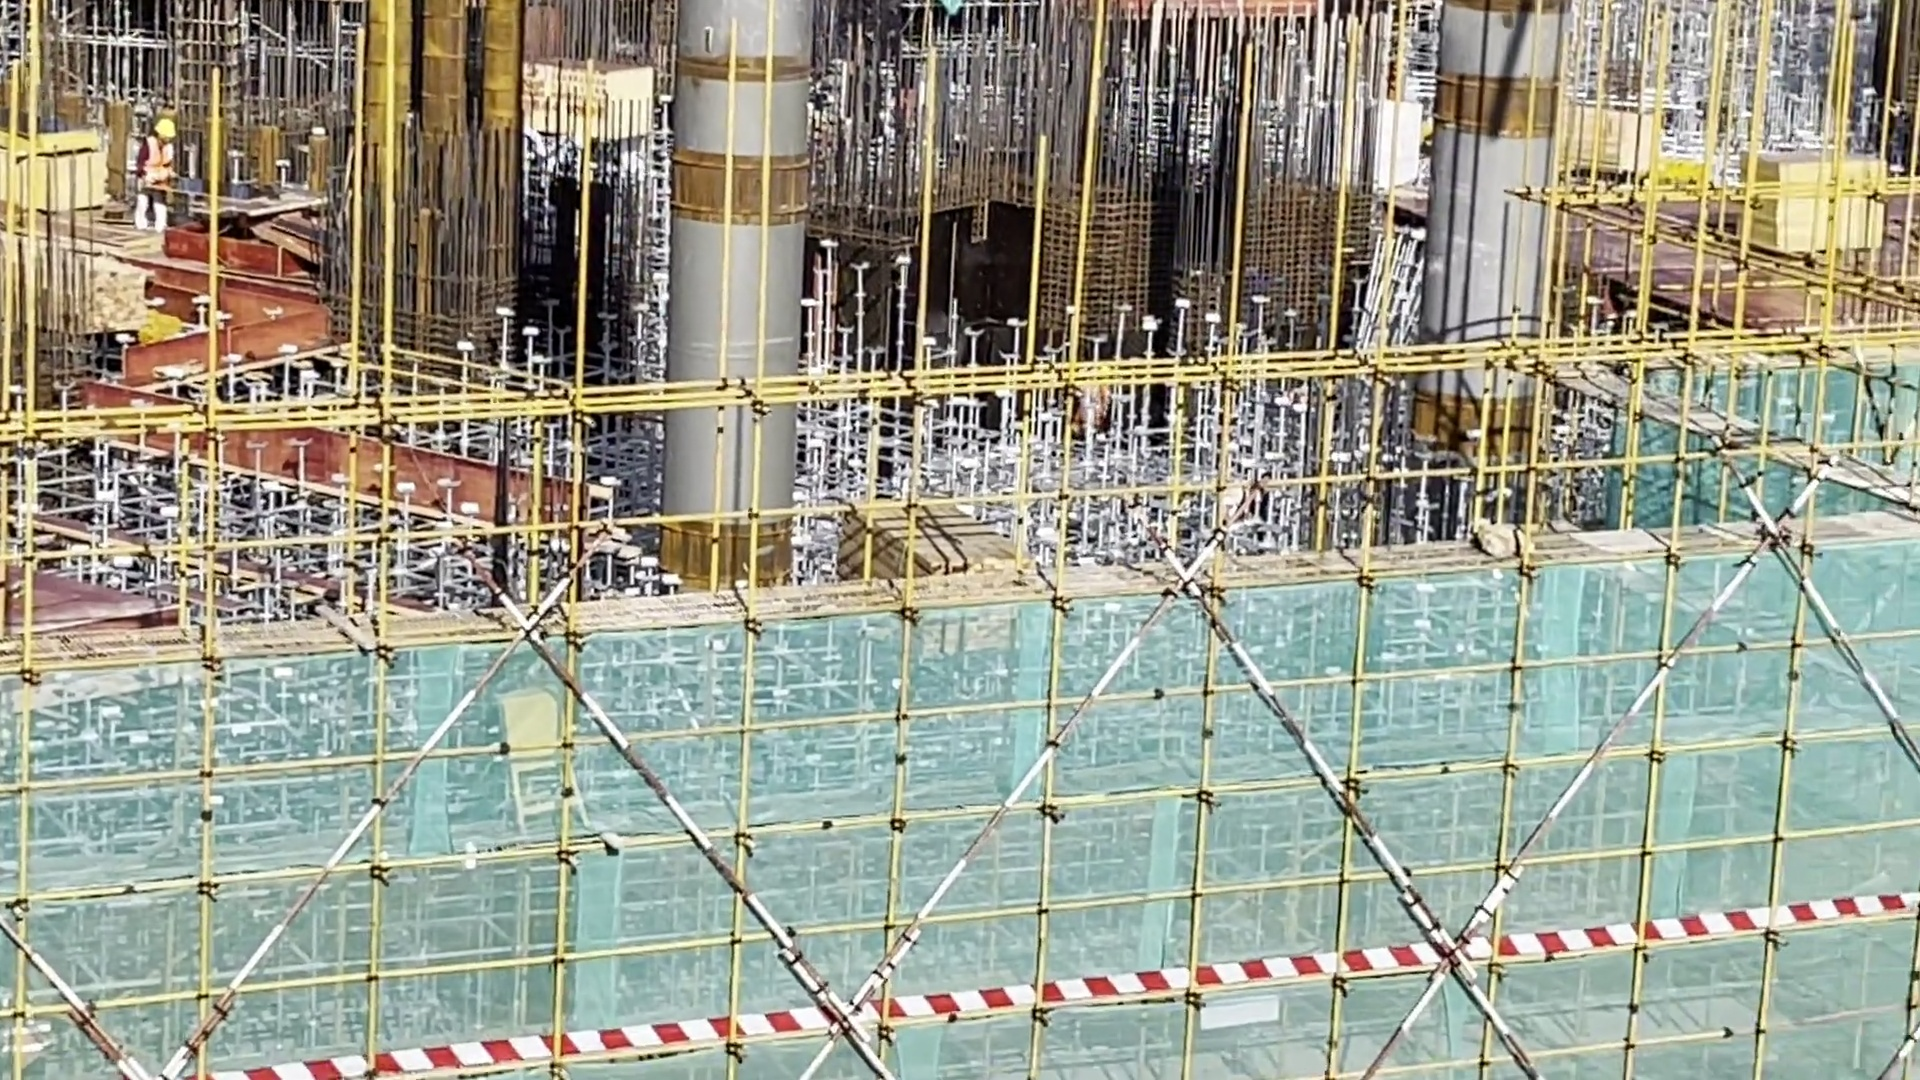ebox: (474, 684, 597, 831)
helmet: (146, 107, 174, 140)
person: (138, 107, 177, 229)
vest: (135, 139, 182, 189)
